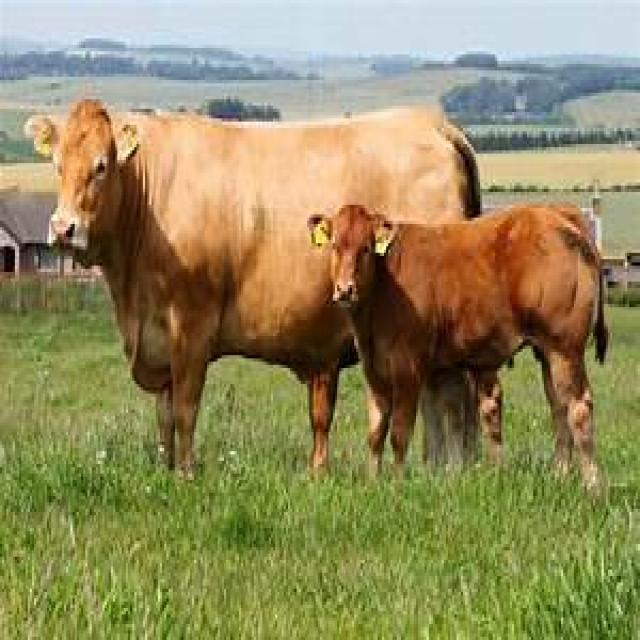cow: (23, 99, 484, 480), (333, 205, 610, 499)
